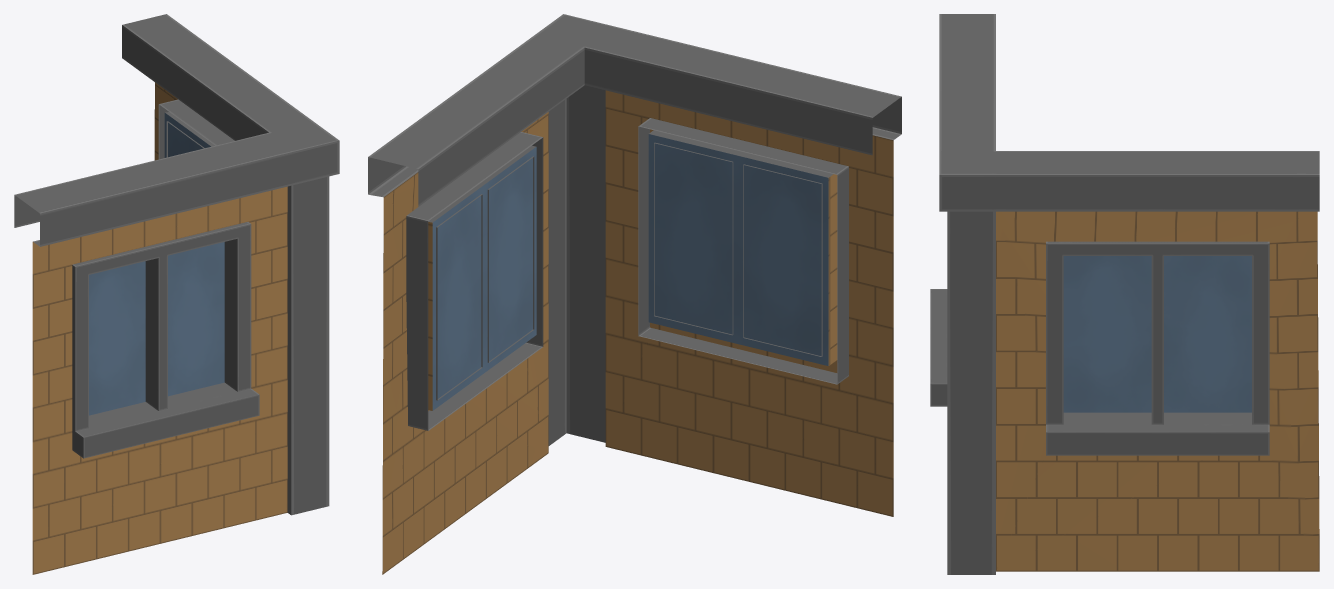
File: Wall_1_top_corner.fbx
3 views of the same model, side by side, from view 1: azimuth 30°, elevation 25°; view 2: azimuth 150°, elevation 25°; view 3: azimuth 270°, elevation 25° (orthographic). The views are drawn at different scales.
Visible parts, largest first — view 1: Wall_1_top_corner; view 2: Wall_1_top_corner; view 3: Wall_1_top_corner.
Boxes of the visible parts, x1,y1,x2,y2 form: Wall_1_top_corner: (14,14,339,574); Wall_1_top_corner: (368,14,901,574); Wall_1_top_corner: (930,14,1319,574).
Size of the model in its own units: 3.37 by 3.85 by 3.37.
